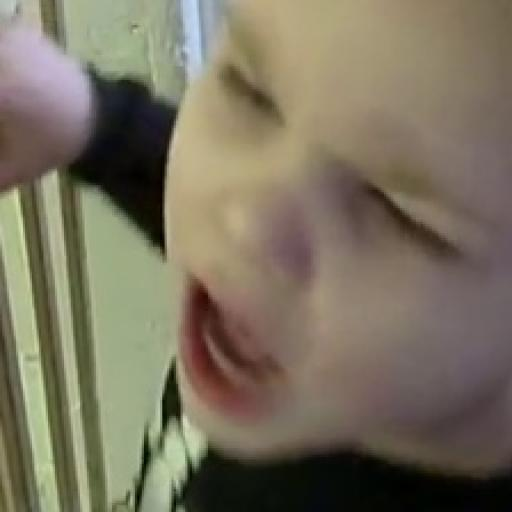Autism: (147, 0, 512, 499)
